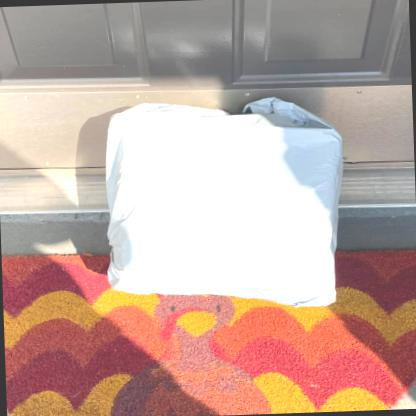plastic_bag: (104, 94, 343, 313)
